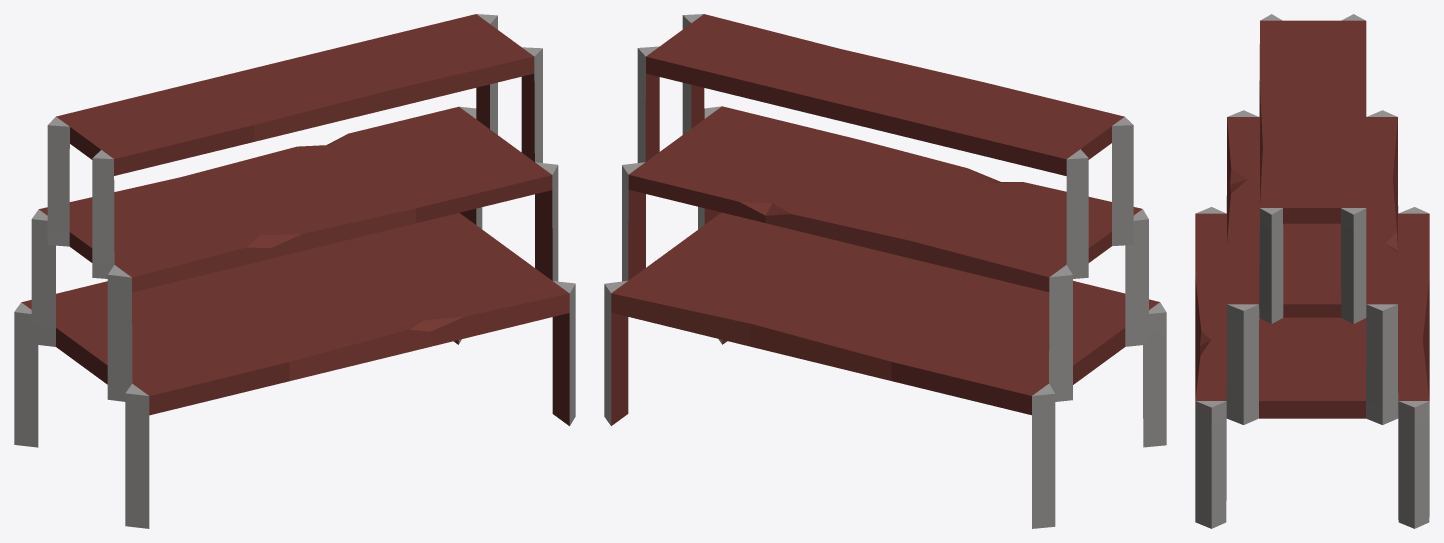
File: SM_Prop_Shelves_03.fbx
3 views of the same model, side by side, from view 1: azimuth 30°, elevation 25°; view 2: azimuth 150°, elevation 25°; view 3: azimuth 270°, elevation 25° (orthographic). The views are drawn at different scales.
Parts seen in each view (by area): view 1: SM_Prop_Shelves_03; view 2: SM_Prop_Shelves_03; view 3: SM_Prop_Shelves_03.
Part boxes in pixels (x1,y1,x2,y2): SM_Prop_Shelves_03: (14, 14, 575, 528); SM_Prop_Shelves_03: (604, 14, 1166, 528); SM_Prop_Shelves_03: (1195, 14, 1429, 528).
Size of the model in its own units: 239 by 175 by 118.
